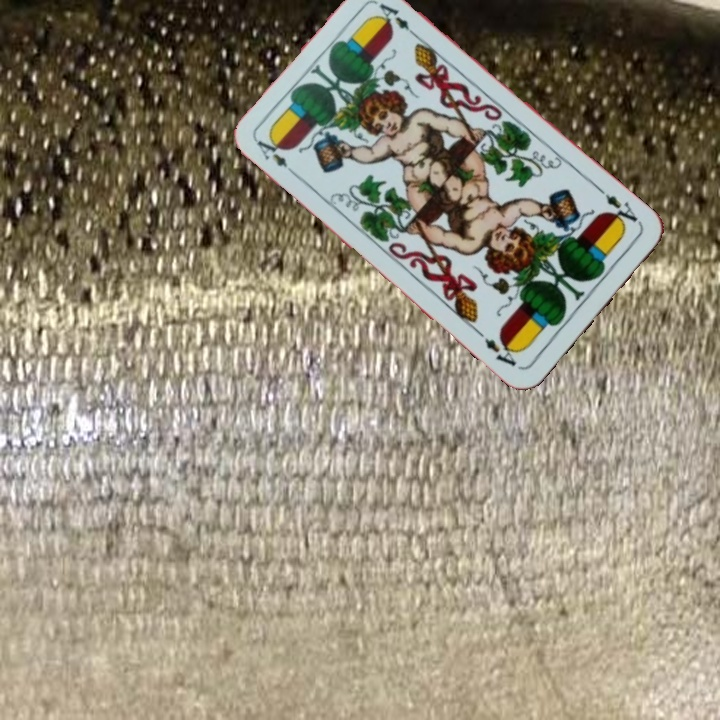EA: (594, 184, 644, 232), (252, 135, 301, 181)
